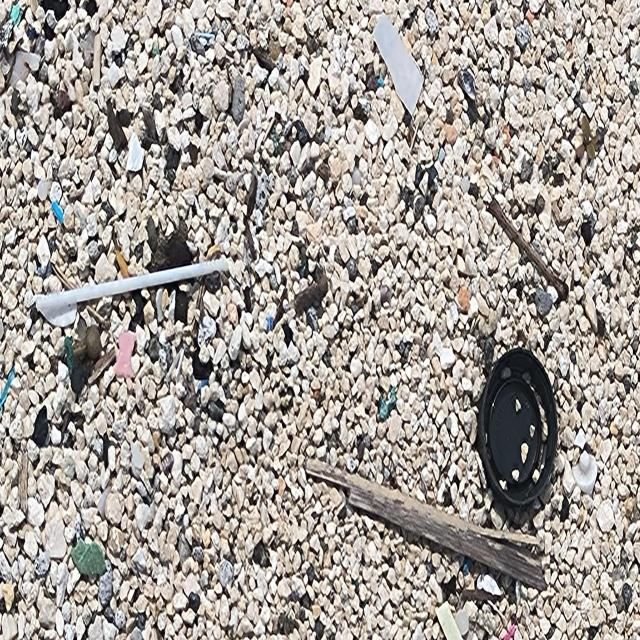plastic_waste: (479, 347, 559, 509), (37, 256, 232, 314)
